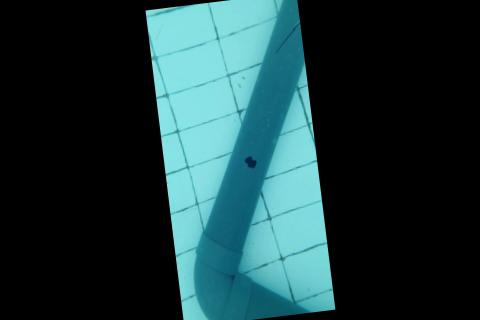kebocoran: (242, 154, 258, 172)
keretakan: (271, 21, 303, 54)
